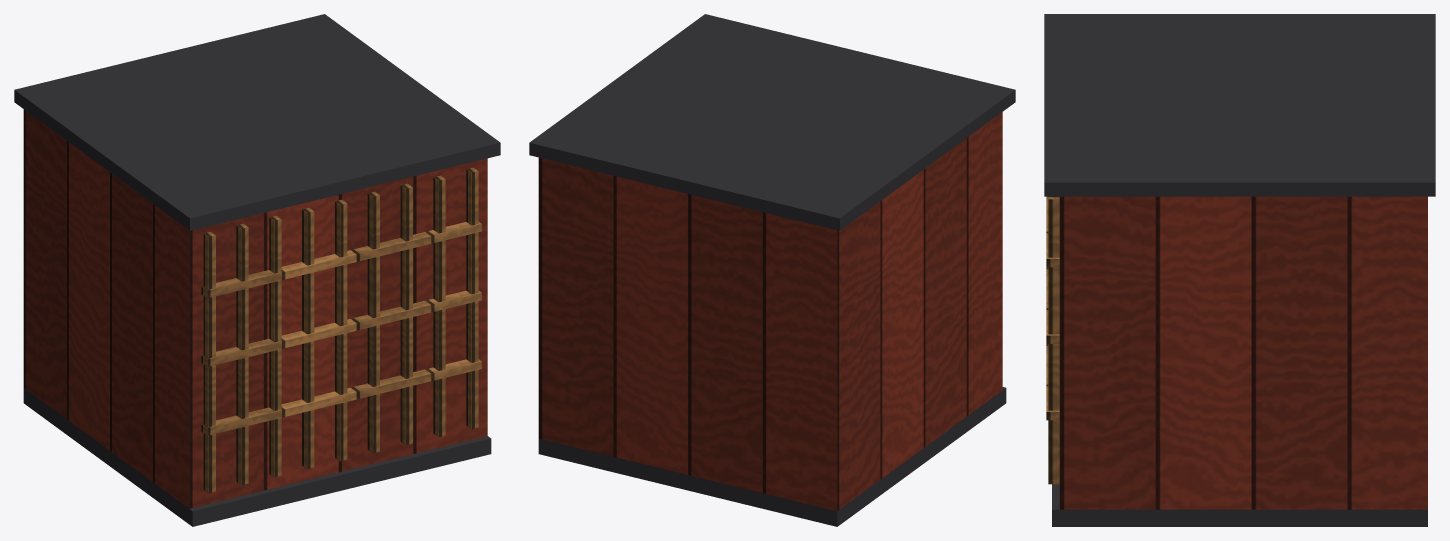
Rendered from LatticeCabinet.fbx.
The picture shows the model from 3 angles, left to right: view 1: azimuth 30°, elevation 25°; view 2: azimuth 150°, elevation 25°; view 3: azimuth 270°, elevation 25°; orthographic projection. The views are drawn at different scales.
Parts seen in each view (by area): view 1: LatticeCabinet; view 2: LatticeCabinet; view 3: LatticeCabinet.
Part boxes in pixels (x1,y1,x2,y2): LatticeCabinet: [14, 14, 500, 526]; LatticeCabinet: [529, 14, 1015, 526]; LatticeCabinet: [1044, 14, 1435, 526].
Size of the model in its own units: 1.04 by 1 by 1.02.
Materials: 3 (2 with a texture image).
